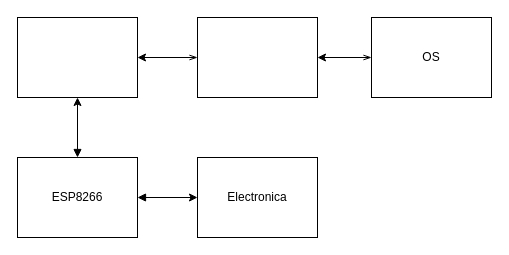
Some shapes in this 509 by 255 pixel diagram are drawn without their labels. Each missing label, with the centre of its shape:
"App" belongs at (x=257, y=57).
"Base de datos" belongs at (x=77, y=57).
